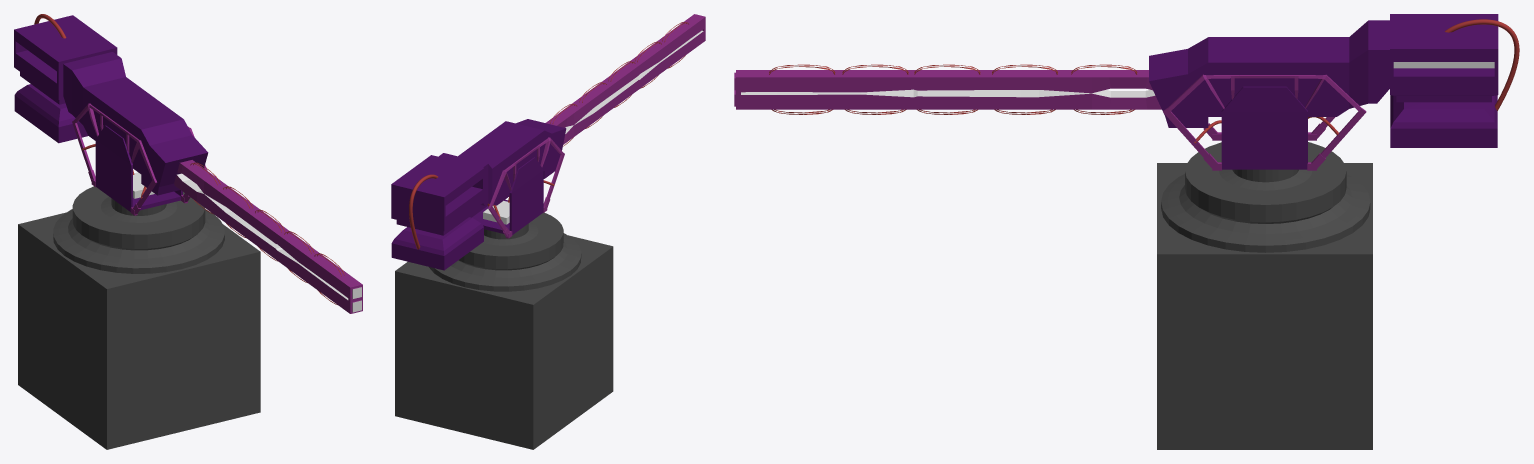
File: Gun2.fbx
The picture shows the model from 3 angles, left to right: view 1: azimuth 30°, elevation 25°; view 2: azimuth 150°, elevation 25°; view 3: azimuth 270°, elevation 25°; orthographic projection. The views are drawn at different scales.
Visible parts, largest first — view 1: Cube.005, Cube.001, Cylinder, Cube.003, Cube, Cube.002; view 2: Cube.005, Cube.001, Cylinder, Cube.003, Cube, Cube.002, NurbsPath.005, Cube.004; view 3: Cube.005, Cube.001, Cube.003, Cylinder, Cube, Cube.002, NurbsPath.005.
Boxes of the visible parts, x1=… form: Cube.005: x1=18, y1=212, x2=260, y2=449; Cube.001: x1=14, y1=15, x2=208, y2=195; Cylinder: x1=53, y1=186, x2=224, y2=273; Cube.003: x1=174, y1=160, x2=362, y2=313; Cube: x1=95, y1=125, x2=182, y2=211; Cube.002: x1=72, y1=103, x2=207, y2=215; Cube.005: x1=395, y1=235, x2=613, y2=449; Cube.001: x1=391, y1=119, x2=566, y2=270; Cylinder: x1=429, y1=212, x2=581, y2=291; Cube.003: x1=545, y1=14, x2=705, y2=144; Cube: x1=469, y1=157, x2=543, y2=234; Cube.002: x1=488, y1=137, x2=564, y2=238; NurbsPath.005: x1=409, y1=174, x2=437, y2=249; Cube.004: x1=483, y1=200, x2=509, y2=224; Cube.005: x1=1157, y1=163, x2=1372, y2=449; Cube.001: x1=1149, y1=14, x2=1498, y2=147; Cube.003: x1=734, y1=70, x2=1161, y2=109; Cylinder: x1=1161, y1=142, x2=1370, y2=252; Cube: x1=1221, y1=86, x2=1307, y2=169; Cube.002: x1=1163, y1=74, x2=1366, y2=170; NurbsPath.005: x1=1445, y1=19, x2=1519, y2=110.
Size of the model in its own units: 1.36 by 2.68 by 4.95.
